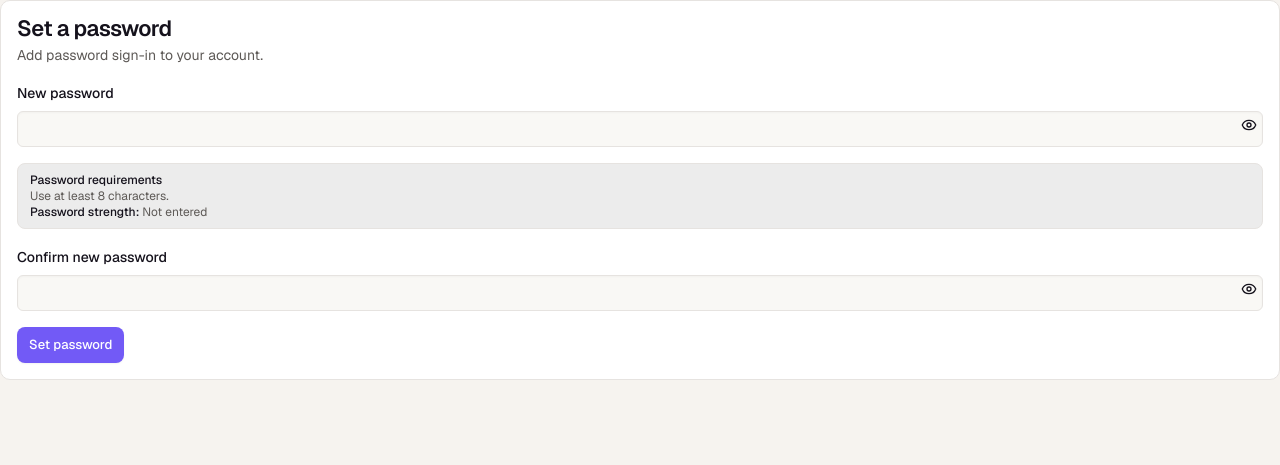
PasswordSetupForm › shows setup copy and validates the shared password requirements
Expected: the heading "Set a password" is shown, [17,14,172,42]
Type "short" into the password field labelled "New password" at [640, 129], box [17,111,1263,147]
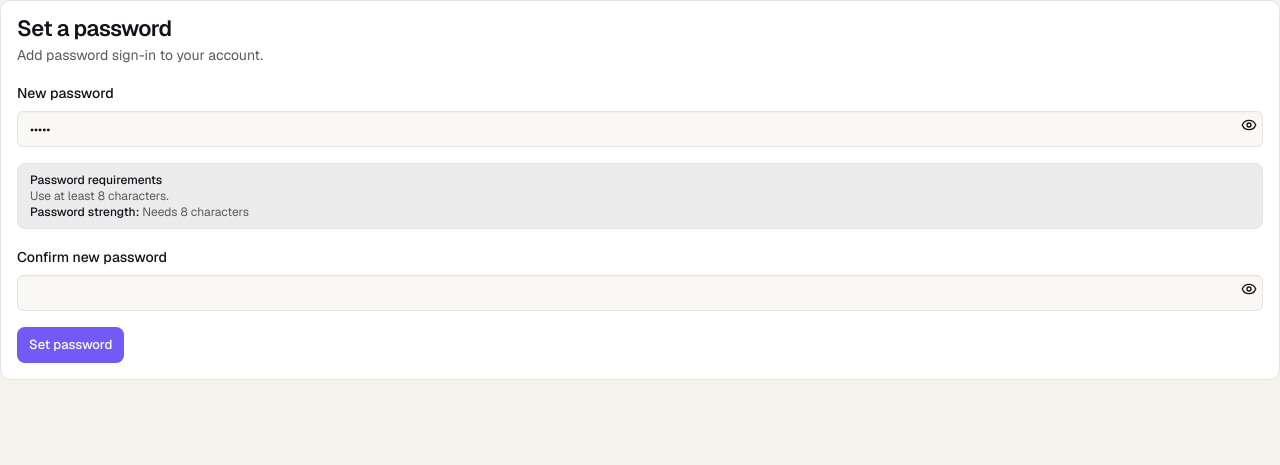
Type "short" into the password field labelled "Confirm new password" at [640, 293], box [17,275,1263,311]
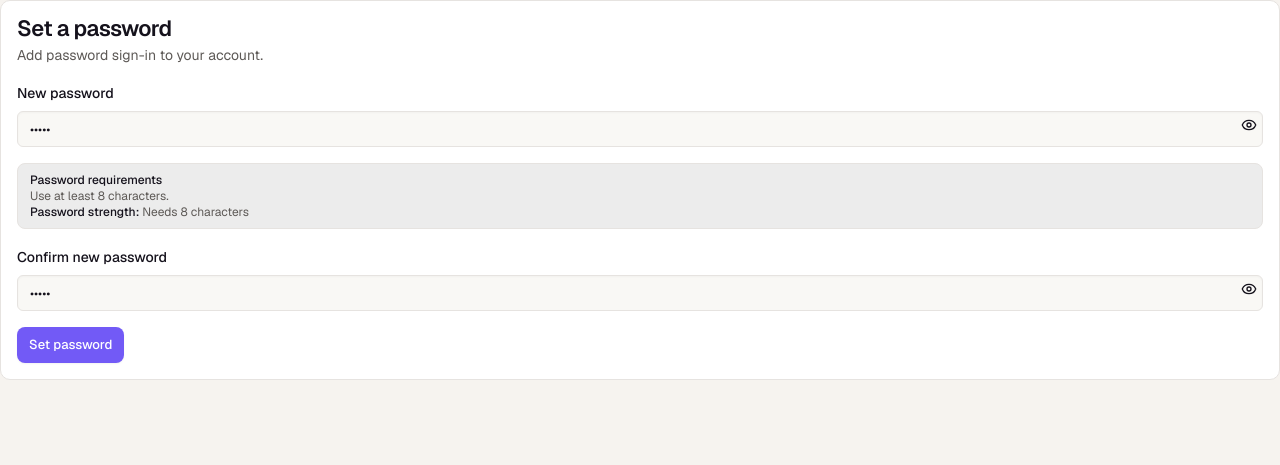
Click the button "Set password" at [71, 345], box [17,327,124,363]
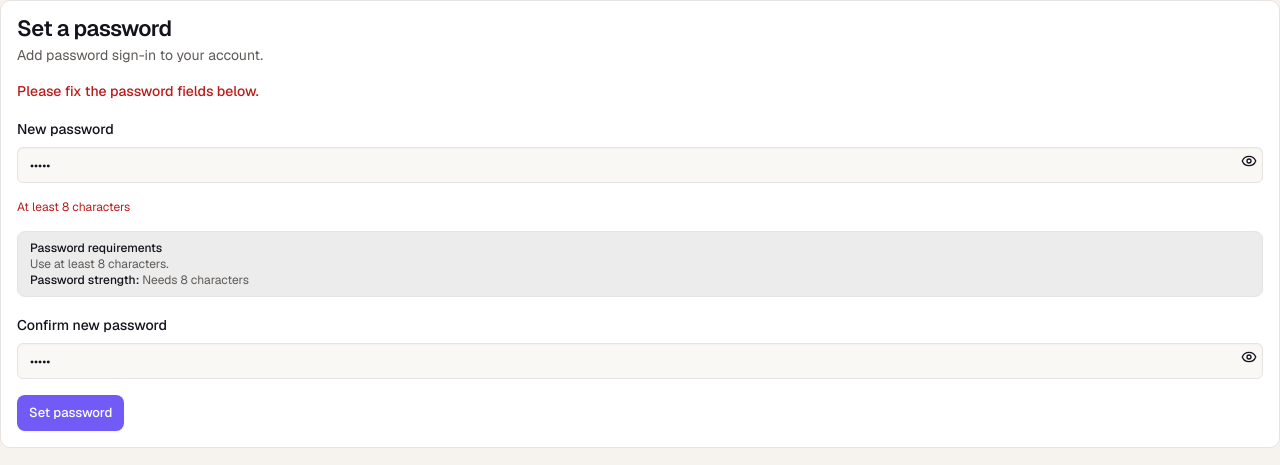
Expected: the text "Use at least 8 characters." is shown, [30,256,169,272]
Now the text "At least 8 characters" is shown, box [17,199,130,215]
